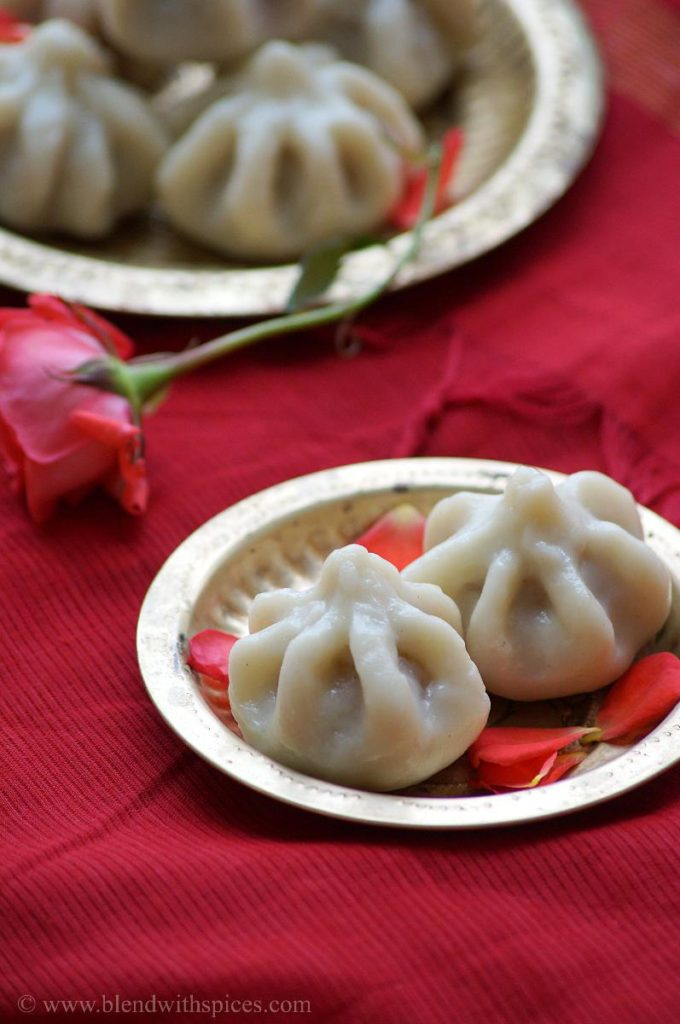modak: (218, 543, 500, 789), (397, 461, 679, 676), (177, 65, 427, 241)
